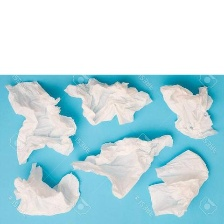tissue: (65, 129, 178, 203), (1, 77, 81, 166), (143, 145, 212, 222), (59, 75, 157, 129), (7, 160, 85, 220), (154, 78, 222, 144)
